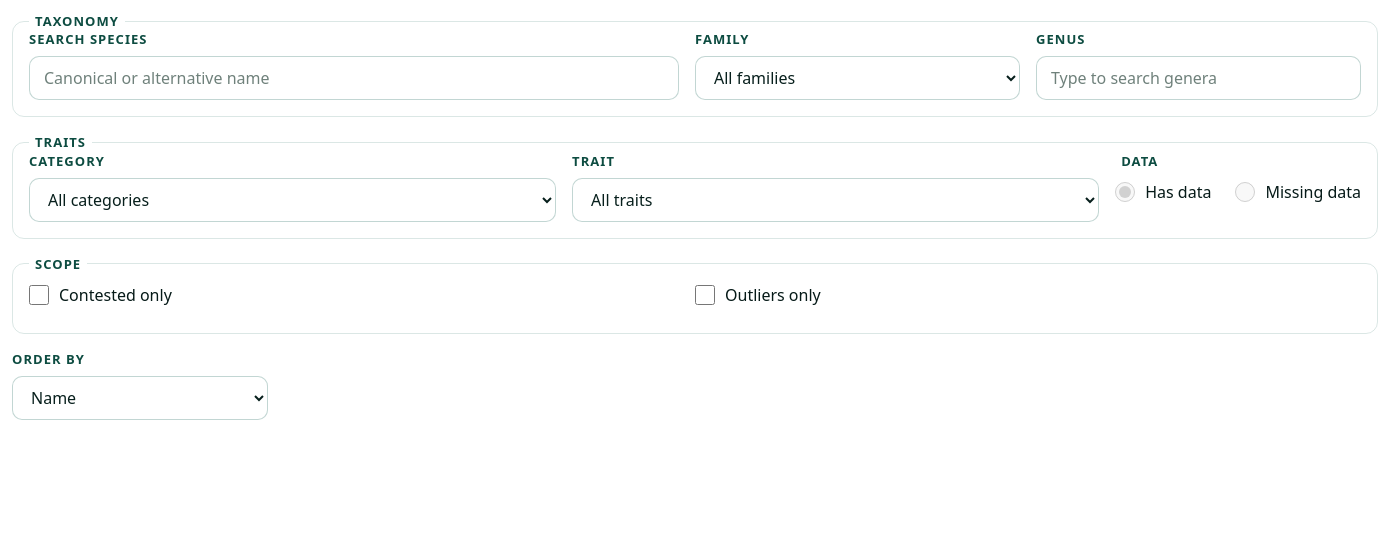
Scenario: RFC-13 R8 SpeciesSearchForm genus combobox ARIA › sets aria-expanded true and points aria-controls at the listbox when suggestions exist
In the dropdown labelled "Genus": (1198, 78) x1=1036 y1=56 x2=1361 y2=100, type "Aden"
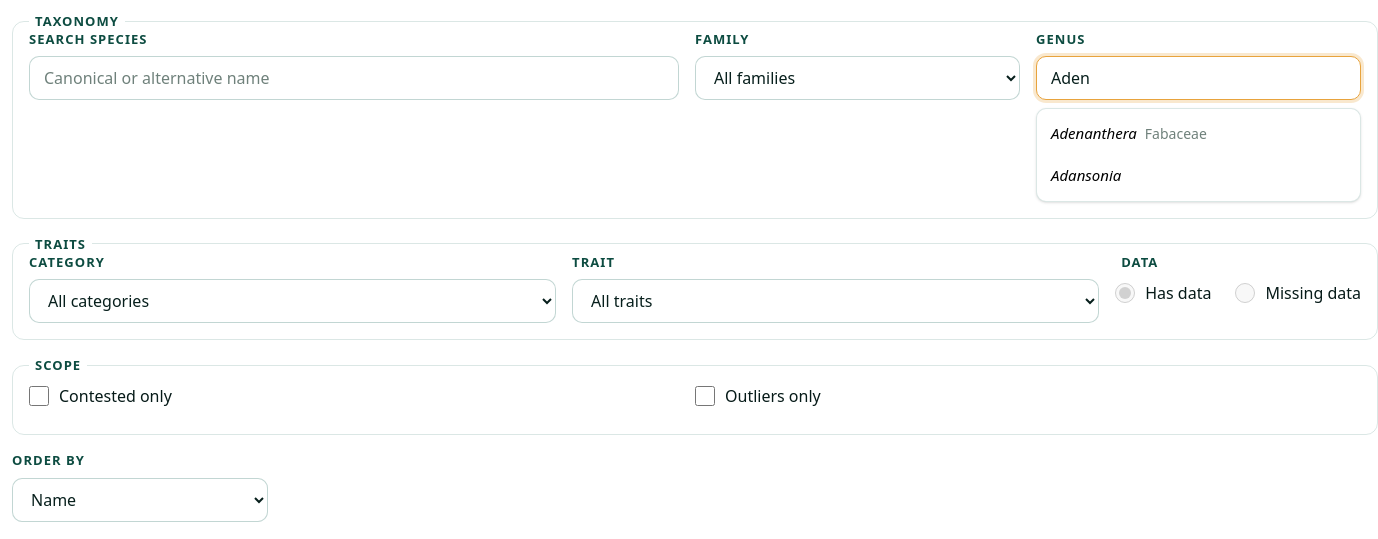
Expected: the dropdown labelled "Genus" is expanded, x1=1036 y1=56 x2=1361 y2=100
